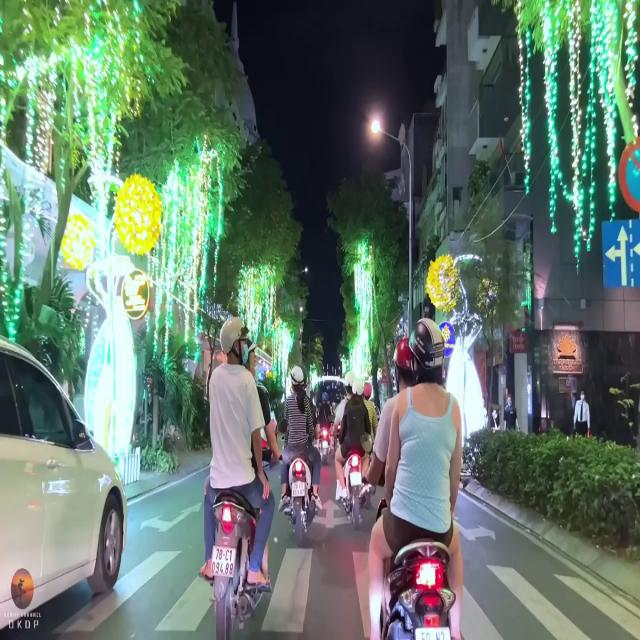bien_trang: (211, 540, 235, 578), (291, 481, 306, 496)
